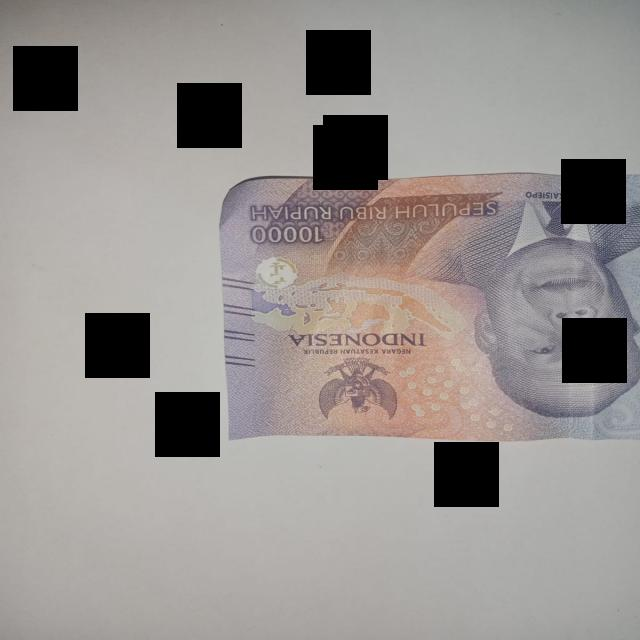sepuluhribu rupiah: (220, 174, 638, 441)
